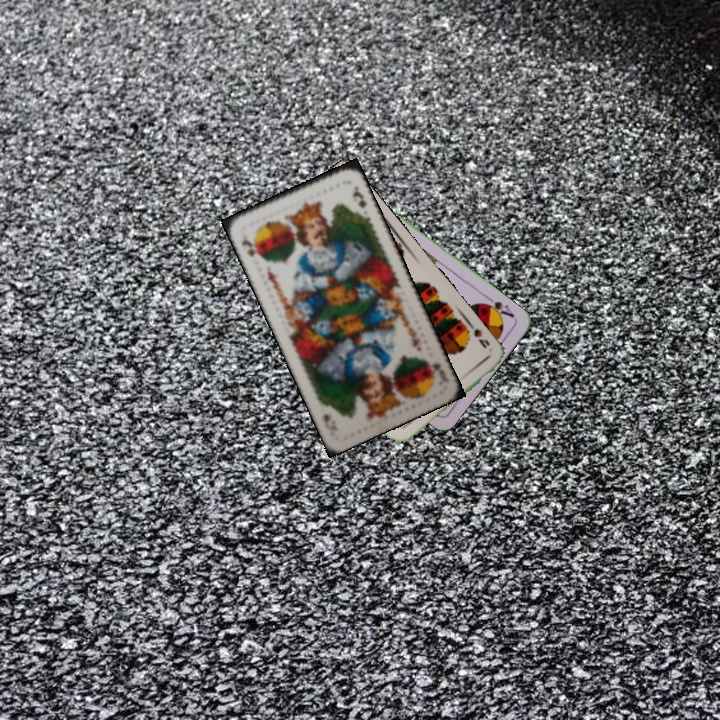S9: (460, 318, 492, 351)
SA: (479, 292, 517, 322)
SK: (238, 230, 264, 261), (421, 354, 446, 376)
